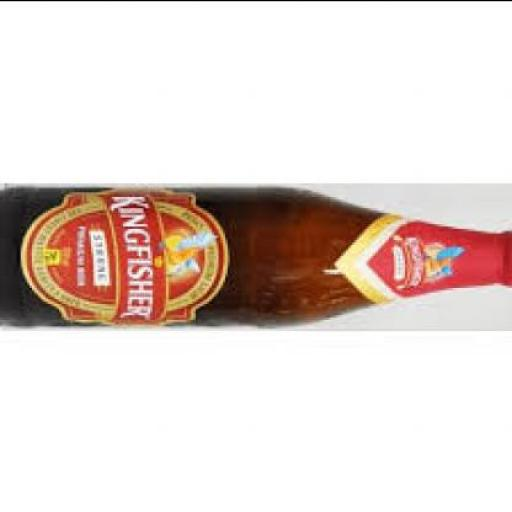glass: (2, 184, 511, 326)
